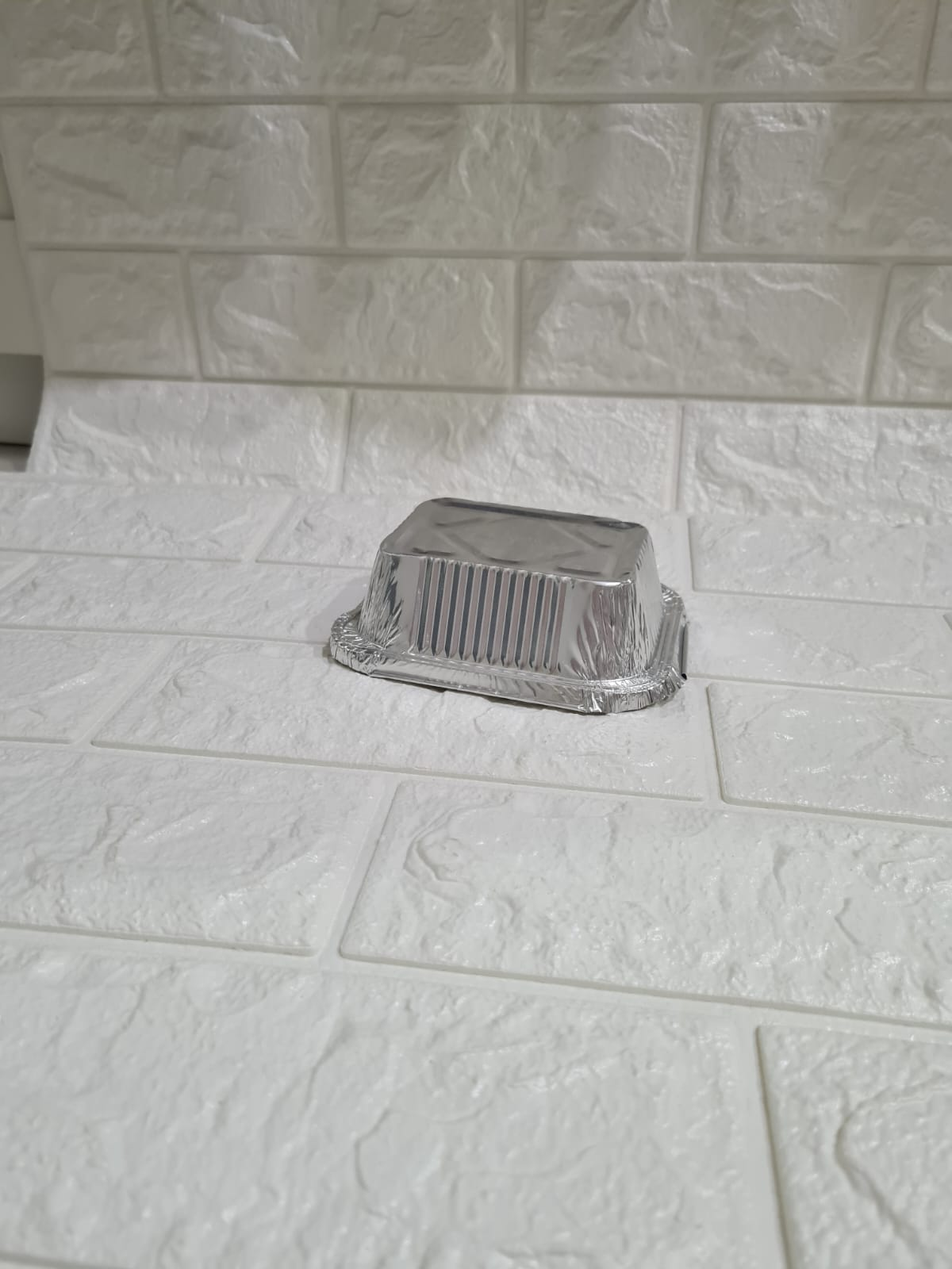Metal: (318, 485, 706, 707)
